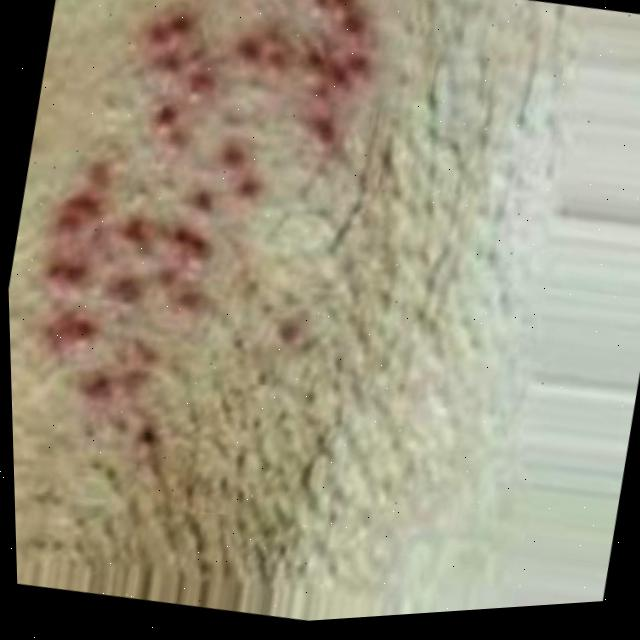Shingles: (10, 0, 398, 498)
